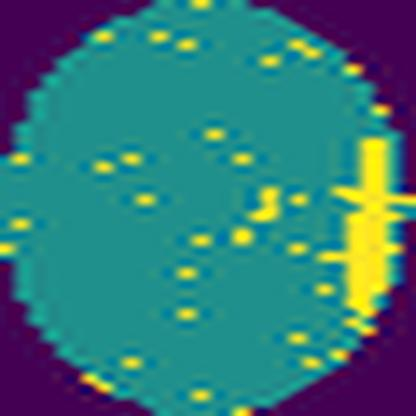Loc: (319, 137, 415, 320)
